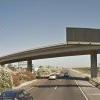Bridge: (4, 34, 96, 76)
